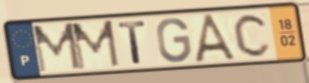A: (192, 11, 242, 63)
C: (232, 12, 273, 59)
G: (155, 16, 193, 65)
M: (69, 18, 122, 73), (30, 21, 83, 75)
T: (115, 19, 148, 66)
